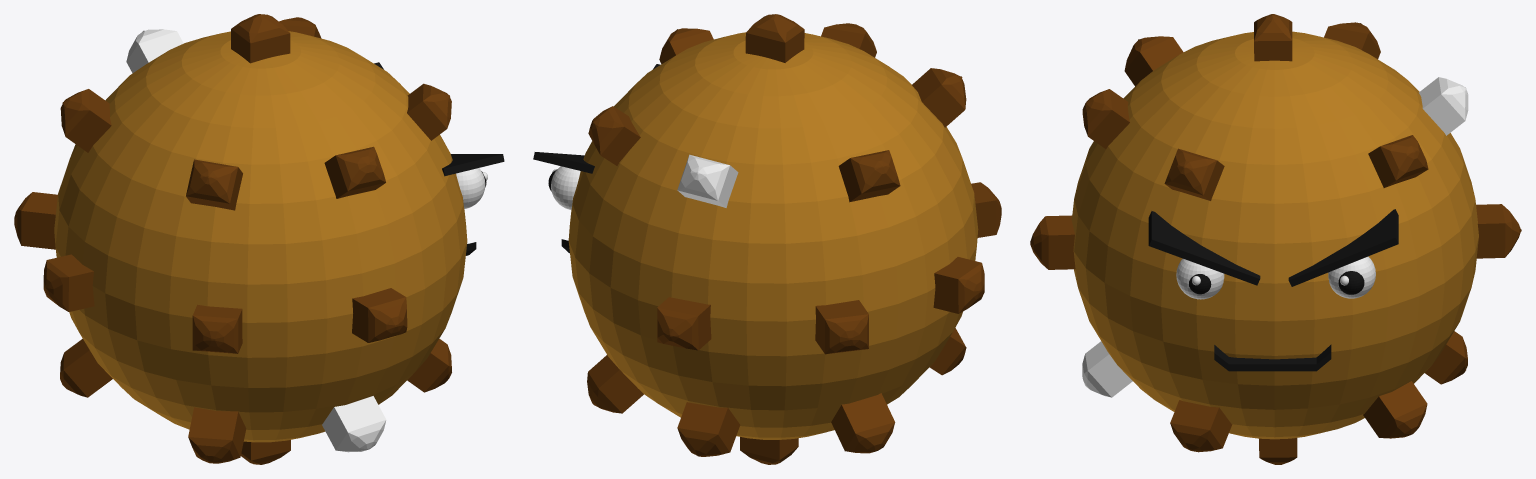
The model's file is Enemy 2.fbx.
3 renders of one model, left to right at view 1: azimuth 30°, elevation 25°; view 2: azimuth 150°, elevation 25°; view 3: azimuth 270°, elevation 25°, orthographic.
Parts seen in each view (by area): view 1: Body, Spike 3, Spike 9, Spike 6, Spike 1, Spike 8, Spike 4, Spike 10, Spike 12, Spike 2, Spike 7, Spike 11 (+2 smaller); view 2: Body, Spike 7, Spike 9, Spike 2, Spike 1, Spike 8, Spike 11, Spike 4, Spike 10, Spike 6, Spike 3, Spike 12 (+2 smaller); view 3: Body, Spike 7, Spike 4, Spike 3, Spike 6, Spike 2, Spike 1, EyeBrown R, EyeBrown L, Spike 9, Spike 8, Mouth (+2 smaller).
Part boxes in pixels (x1,y1,x2,y2): Body: (54, 31, 467, 442); Spike 3: (126, 29, 386, 452); Spike 9: (60, 83, 451, 397); Spike 6: (60, 89, 451, 392); Spike 1: (231, 14, 290, 464); Spike 8: (188, 17, 321, 463); Spike 4: (352, 288, 407, 342); Spike 10: (43, 254, 94, 311); Spike 12: (192, 304, 242, 353); Spike 2: (324, 146, 385, 198); Spike 7: (186, 159, 242, 210); Spike 11: (14, 192, 57, 249); Body: (568, 32, 978, 439); Spike 7: (587, 68, 966, 413); Spike 9: (659, 28, 895, 453); Spike 2: (677, 23, 876, 456); Spike 1: (740, 14, 804, 464); Spike 8: (588, 106, 966, 375); Spike 11: (815, 300, 868, 354); Spike 4: (657, 297, 711, 350); Spike 10: (933, 257, 984, 313); Spike 6: (838, 150, 900, 202); Spike 3: (677, 154, 738, 207); Spike 12: (971, 182, 1001, 237); Body: (1071, 31, 1478, 439); Spike 7: (1124, 36, 1427, 438); Spike 4: (1030, 204, 1521, 269); Spike 3: (1082, 77, 1468, 397); Spike 6: (1170, 22, 1380, 452); Spike 2: (1082, 89, 1467, 384); Spike 1: (1254, 14, 1297, 464); EyeBrown R: (1148, 211, 1260, 285); EyeBrown L: (1288, 209, 1398, 286); Spike 9: (1164, 148, 1224, 200); Spike 8: (1368, 135, 1428, 187); Mouth: (1214, 344, 1331, 371).
Size of the model in its own units: 222 by 241 by 240.
